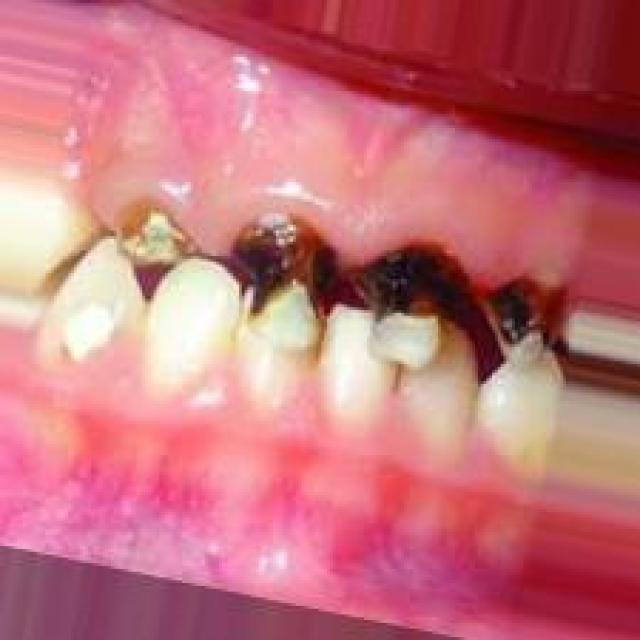caries: (346, 231, 476, 373), (225, 203, 332, 360), (98, 186, 196, 288), (477, 267, 568, 365)
